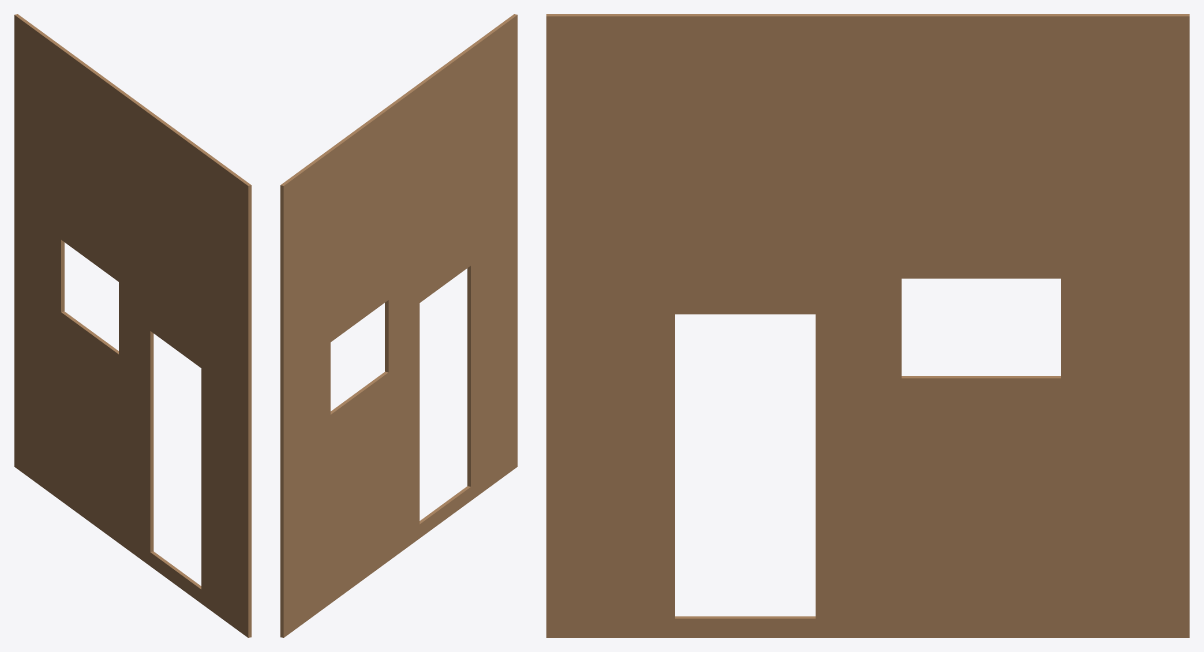
File: Short Door With Narrow Window.fbx
3 views of the same model, side by side, from view 1: azimuth 30°, elevation 25°; view 2: azimuth 150°, elevation 25°; view 3: azimuth 270°, elevation 25° (orthographic). The views are drawn at different scales.
Parts seen in each view (by area): view 1: Group1; view 2: Group1; view 3: Group1.
Boxes of the visible parts, box(x1,y1,x2,y2) form: Group1: box(14, 14, 251, 637); Group1: box(280, 14, 517, 637); Group1: box(546, 14, 1189, 637).
Size of the model in its own units: 0.5 by 63.97 by 60.
